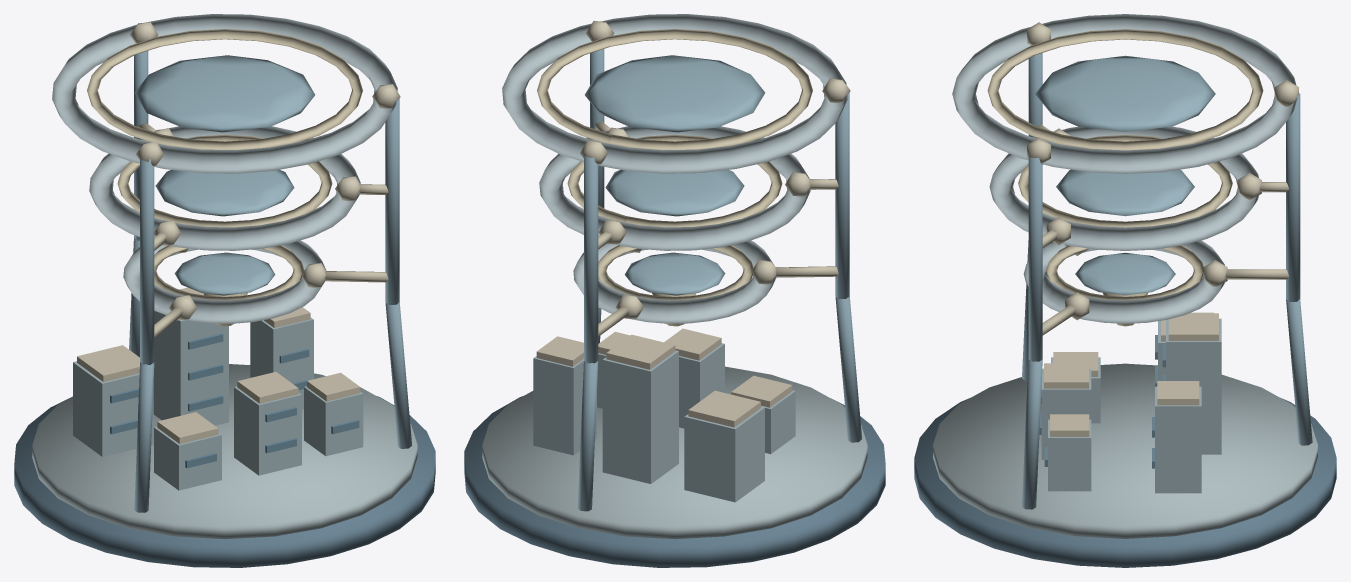
File: ART-56.glb
3 views of the same model, side by side, from view 1: azimuth 30°, elevation 25°; view 2: azimuth 150°, elevation 25°; view 3: azimuth 270°, elevation 25° (orthographic).
Visible parts, largest first — view 1: world; view 2: world; view 3: world.
Part boxes in pixels (x1=…): world: x1=14, y1=14, x2=435, y2=567; world: x1=464, y1=14, x2=885, y2=567; world: x1=914, y1=14, x2=1336, y2=567.
Bounding box in the file's own units: 1.93 × 2 × 1.93.
